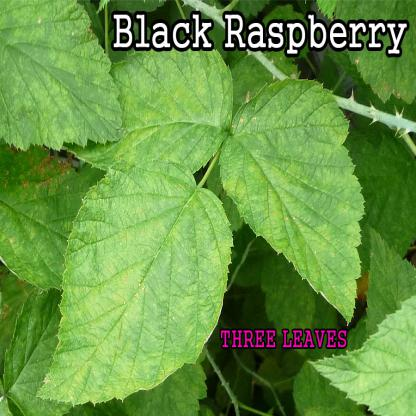raspberry leaf: (36, 158, 231, 403), (215, 71, 360, 325), (0, 4, 128, 145), (71, 54, 231, 158)
